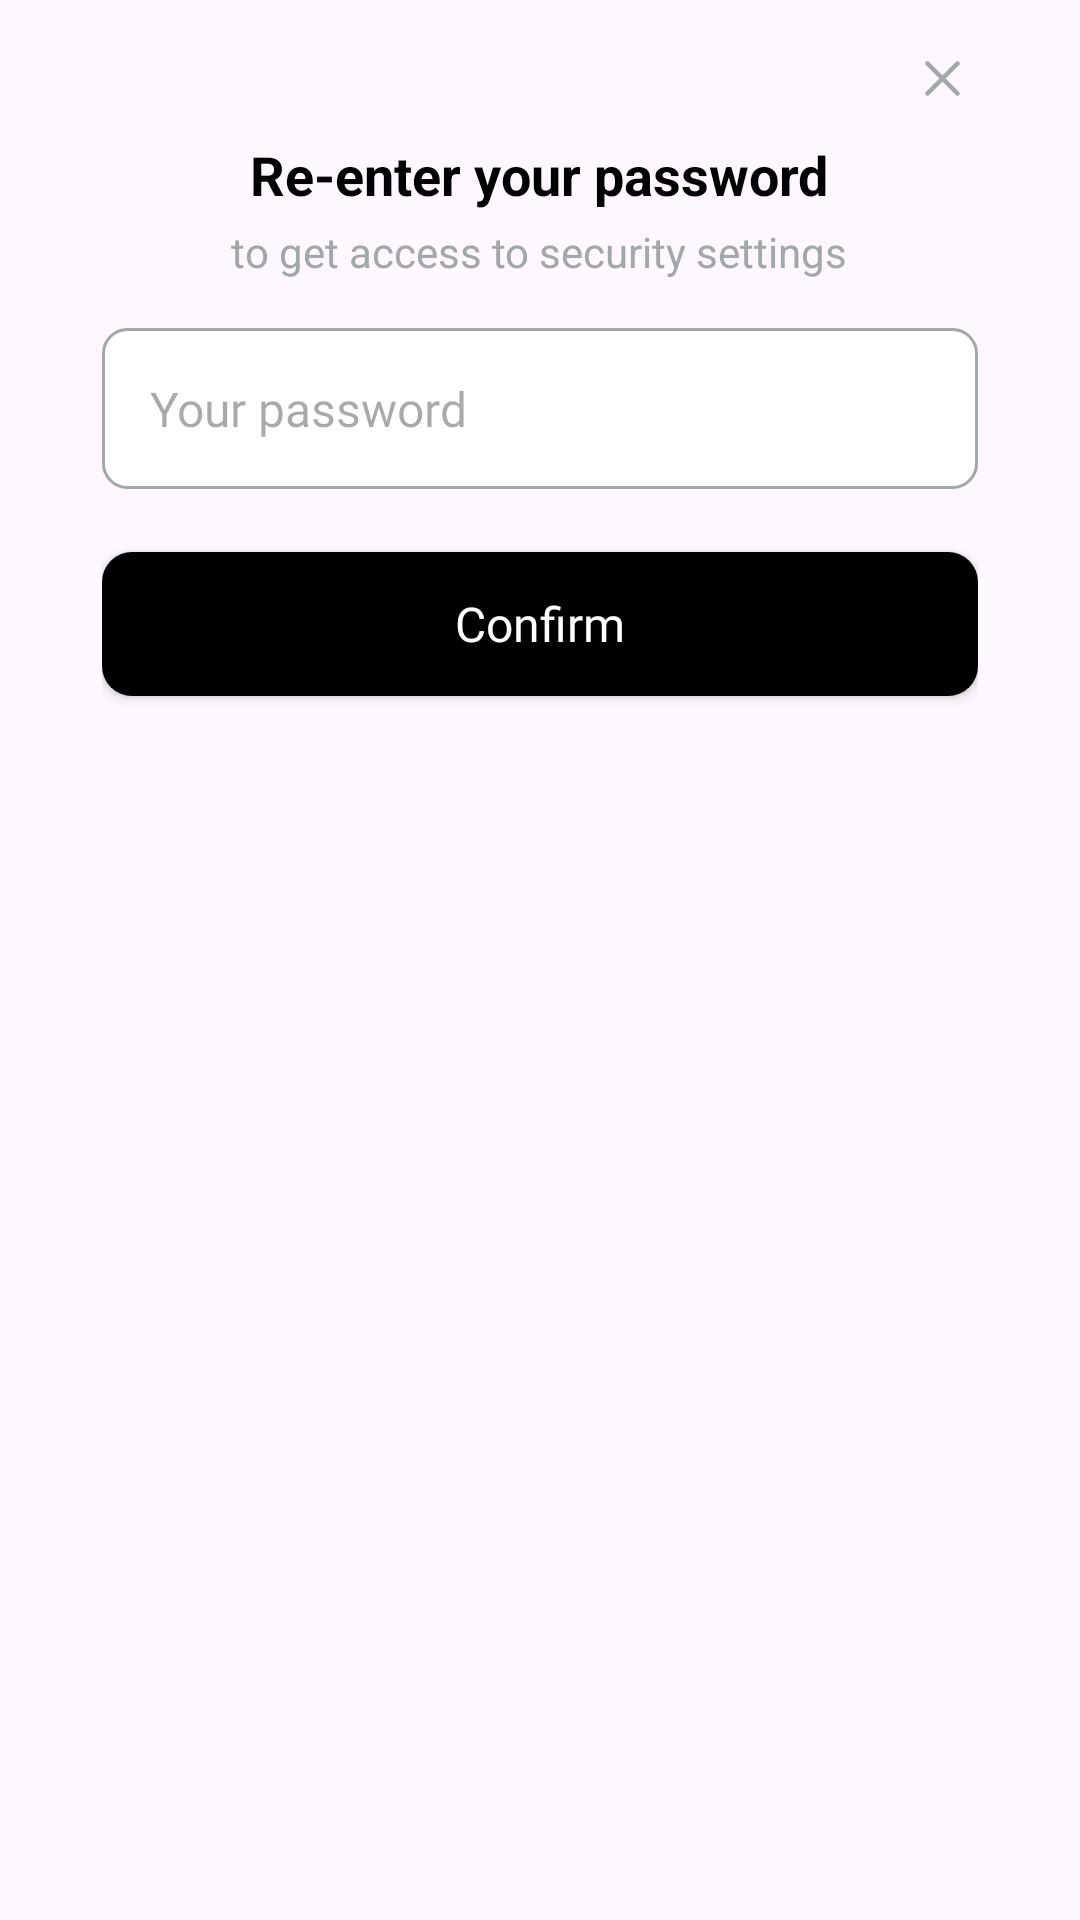

Where icons sit on this 1080x1920 app screen, as rect(x1, y1, x2, y2):
Close: rect(925, 61, 960, 96)
